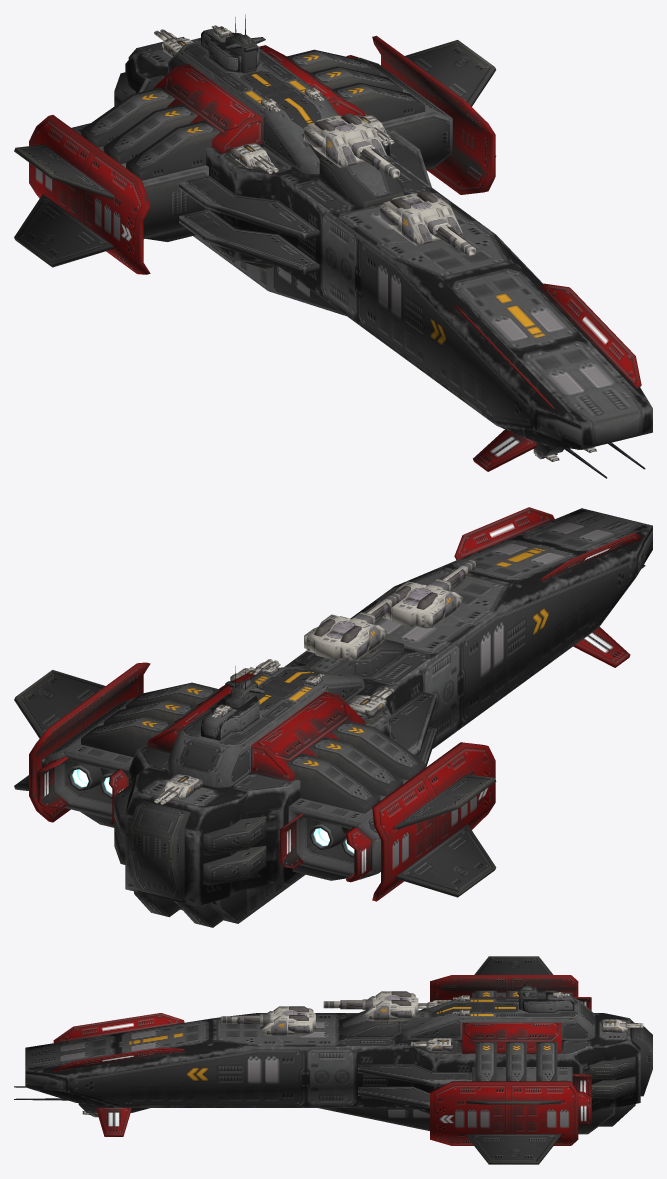
The model's file is reaver-privateer.glb.
The picture shows the model from 3 angles, top to bottom: view 1: azimuth 30°, elevation 25°; view 2: azimuth 150°, elevation 25°; view 3: azimuth 270°, elevation 25°; orthographic projection. The views are drawn at different scales.
Visible parts, largest first — view 1: hull; view 2: hull; view 3: hull.
Boxes of the visible parts, left/top/right/bottom form: hull: left=14, top=14, right=652, bottom=478; hull: left=14, top=507, right=652, bottom=927; hull: left=14, top=956, right=652, bottom=1164.
Bounding box in the file's own units: 0.5425 × 0.2539 × 1.
1 material, 1 textured.
